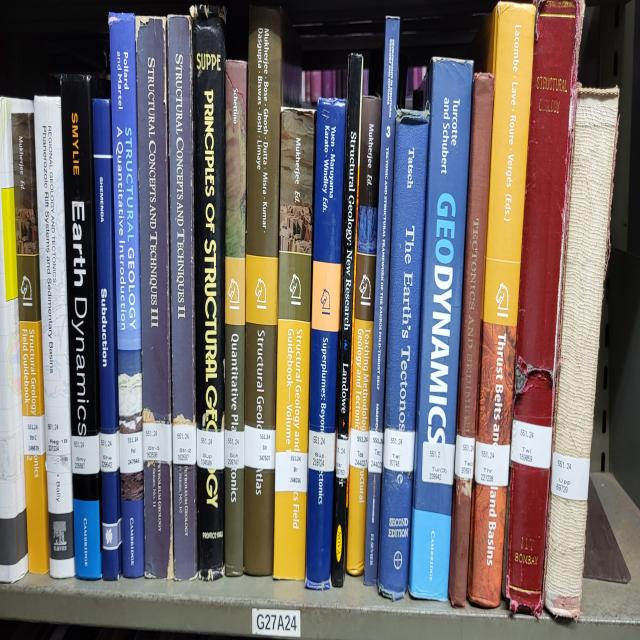Book: (505, 0, 581, 617), (469, 3, 536, 606), (544, 87, 619, 620), (409, 60, 472, 601), (449, 73, 495, 609), (379, 111, 429, 601), (136, 16, 174, 579), (245, 11, 282, 574), (364, 16, 400, 584), (305, 97, 346, 590), (61, 76, 101, 579), (34, 97, 75, 579), (191, 11, 225, 579), (274, 108, 315, 579), (110, 14, 144, 576), (11, 100, 49, 574), (168, 16, 198, 579), (346, 97, 381, 576), (331, 54, 362, 587), (0, 97, 29, 582), (92, 100, 121, 579), (225, 60, 248, 576)
Label: (510, 419, 552, 468), (551, 452, 590, 501), (475, 441, 510, 487), (421, 441, 455, 484), (382, 427, 415, 471), (244, 425, 275, 471), (275, 452, 308, 492), (196, 427, 225, 471), (45, 414, 71, 463), (142, 422, 172, 463), (71, 433, 100, 473), (119, 430, 144, 473), (309, 430, 335, 471), (172, 425, 196, 465), (22, 414, 45, 455), (455, 433, 475, 479), (0, 430, 18, 479), (100, 430, 120, 473), (350, 427, 369, 468), (225, 430, 244, 468), (335, 438, 350, 479), (368, 430, 382, 473)
